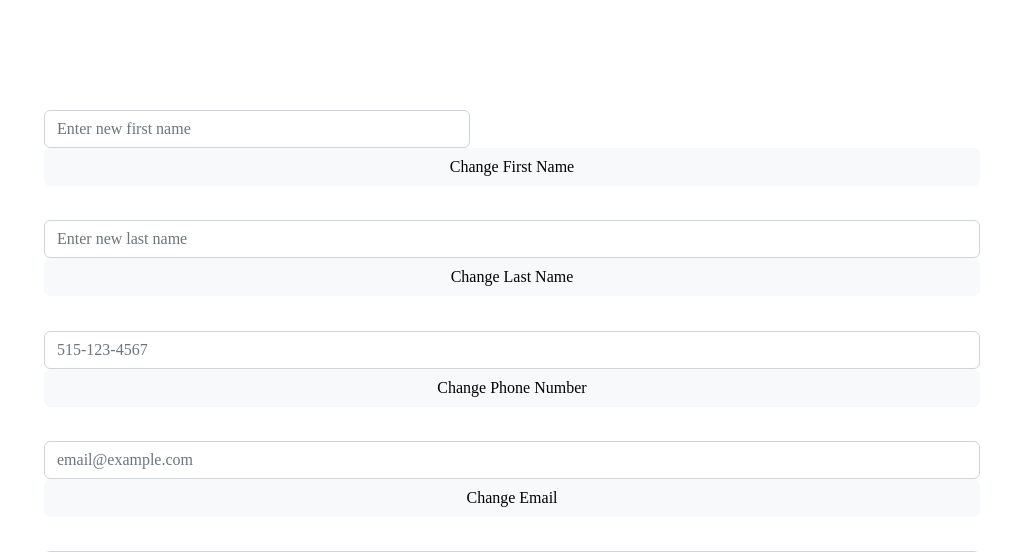
Scenario: EditUserInfoPage › EditUserInfoPage: Invalid email input
This screenshot has width=1024, height=552.
// input text into emailInput
Step 1. Type "invalid" into the field with placeholder "email@example.com" → (512, 460), box [44,441,980,479]
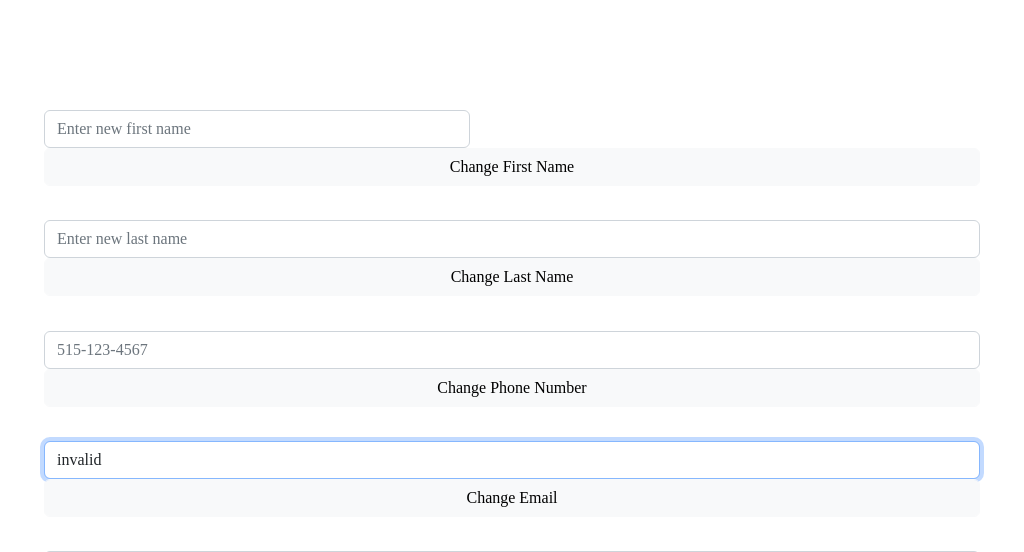
// after the Change Email button is clicked, the error message should be visible
Step 2. Click the button "Change Email" → (512, 498), box [44,479,980,517]
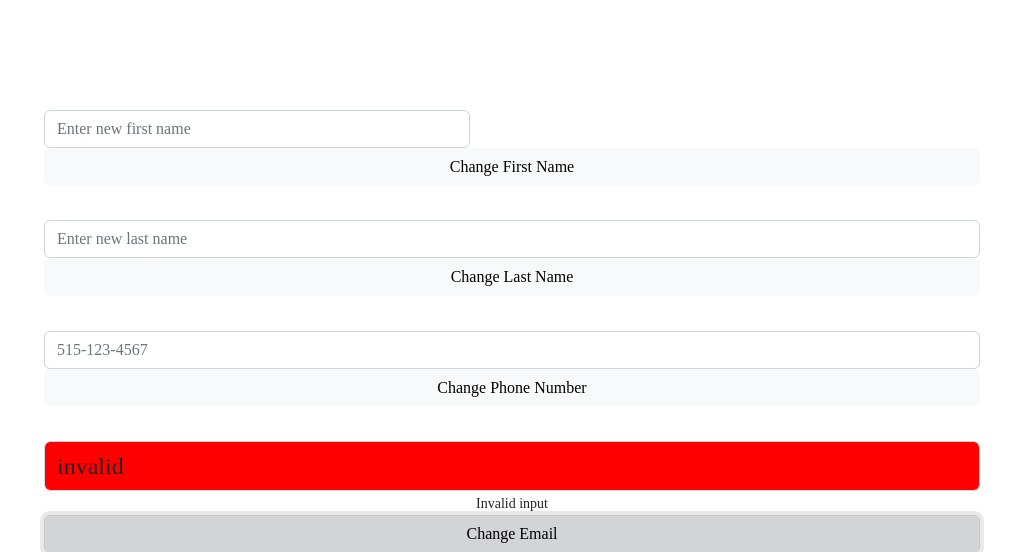
Check: the text "Invalid input" is shown, box [476,496,548,511]
